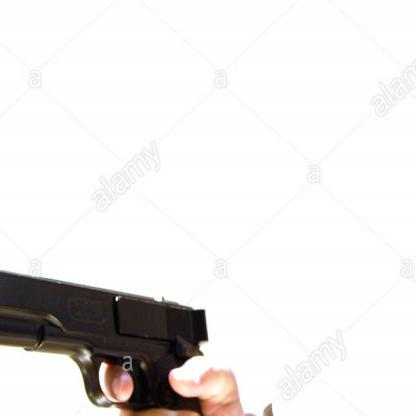gun: (0, 252, 241, 415)
